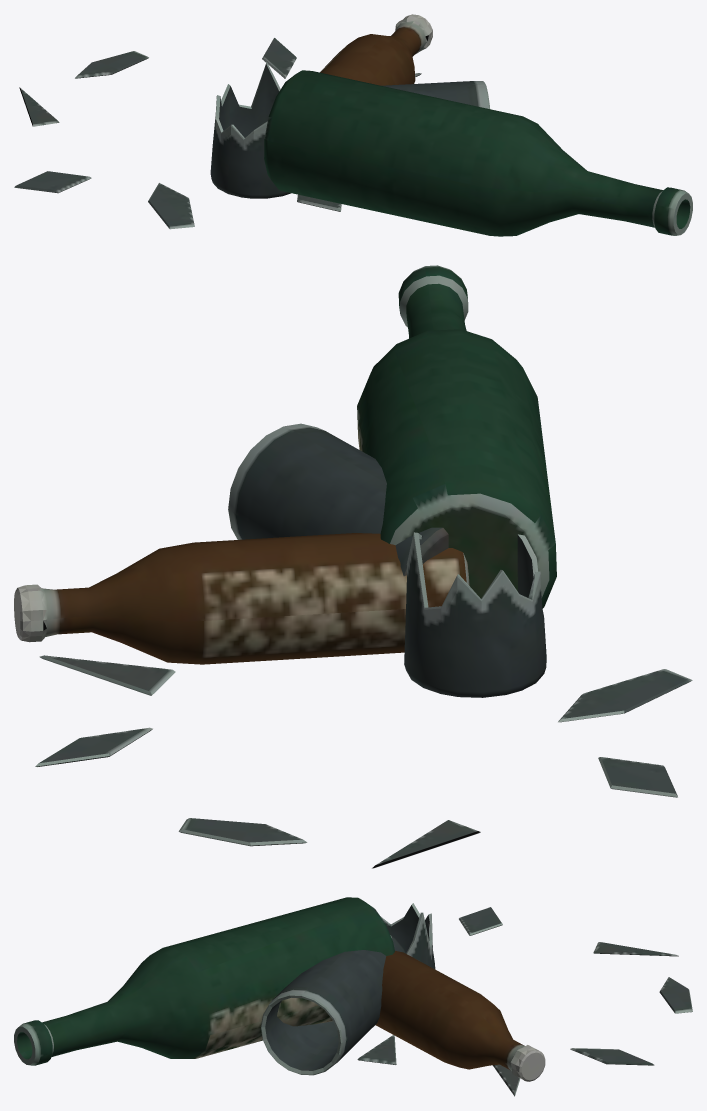
Rendered from restos-suelo.MA4AJneu.glb.
3 views of the same model, one above another, from view 1: azimuth 30°, elevation 25°; view 2: azimuth 150°, elevation 25°; view 3: azimuth 270°, elevation 25° (orthographic). The views are drawn at different scales.
Visible parts, largest first — view 1: Resto_Botella, Resto_VasoRoto, Resto_Cristales, Resto_Botellin, Resto_Vaso; view 2: Resto_Botella, Resto_Botellin, Resto_VasoRoto, Resto_Vaso, Resto_Cristales; view 3: Resto_Botella, Resto_Botellin, Resto_Vaso, Resto_Cristales, Resto_VasoRoto.
Boxes of the visible parts, left/top/right/bottom form: Resto_Botella: left=264, top=70, right=692, bottom=236; Resto_VasoRoto: left=210, top=62, right=290, bottom=198; Resto_Cristales: left=14, top=38, right=421, bottom=229; Resto_Botellin: left=320, top=14, right=432, bottom=85; Resto_Vaso: left=381, top=81, right=489, bottom=108; Resto_Botella: left=357, top=265, right=556, bottom=608; Resto_Botellin: left=14, top=533, right=469, bottom=664; Resto_VasoRoto: left=404, top=532, right=546, bottom=697; Resto_Vaso: left=228, top=423, right=448, bottom=576; Resto_Cristales: left=35, top=655, right=692, bottom=868; Resto_Botella: left=14, top=897, right=394, bottom=1065; Resto_Botellin: left=375, top=951, right=545, bottom=1081; Resto_Vaso: left=260, top=935, right=405, bottom=1075; Resto_Cristales: left=357, top=907, right=692, bottom=1096; Resto_VasoRoto: left=381, top=903, right=435, bottom=968.
Bounding box in the file's own units: 0.3608 × 0.0888 × 0.5264.
1 material, 1 textured.
